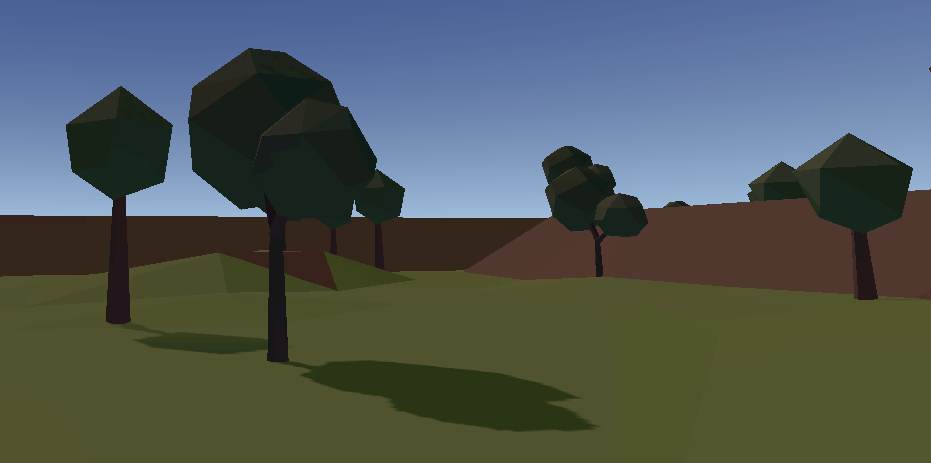tree: (189, 48, 377, 360), (64, 84, 175, 324), (792, 133, 916, 303), (545, 167, 645, 283), (354, 165, 405, 275), (542, 146, 620, 190), (748, 159, 811, 199), (319, 208, 350, 258)
